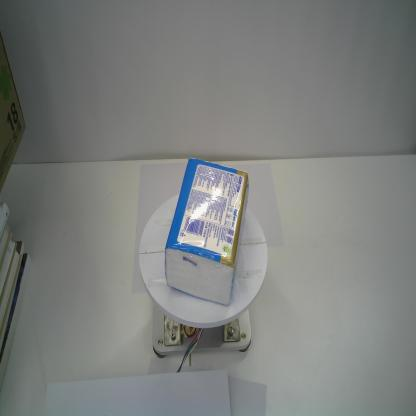Tissue: (163, 156, 249, 307)
